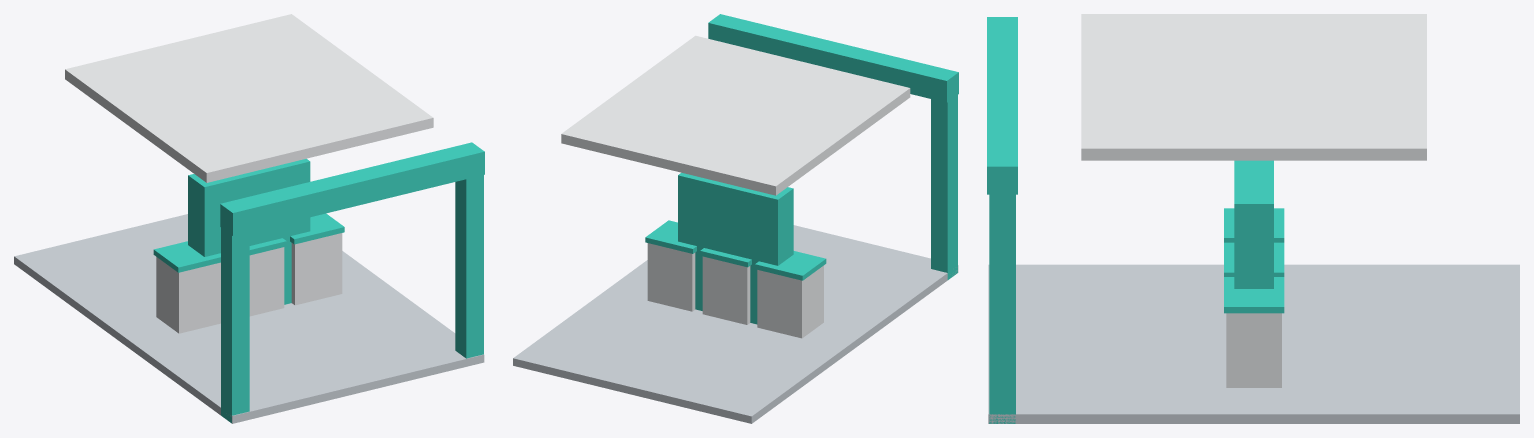
The picture shows the model from 3 angles, left to right: view 1: azimuth 30°, elevation 25°; view 2: azimuth 150°, elevation 25°; view 3: azimuth 270°, elevation 25°; orthographic projection. The views are drawn at different scales.
Parts seen in each view (by area): view 1: Exhibition Booth Concept; view 2: Exhibition Booth Concept; view 3: Exhibition Booth Concept.
Part boxes in pixels (bbox=[...]): Exhibition Booth Concept: bbox=[14, 14, 484, 423]; Exhibition Booth Concept: bbox=[513, 14, 958, 423]; Exhibition Booth Concept: bbox=[987, 14, 1519, 423].
Bounding box in the file's own units: 4 × 3.34 × 6.02.
